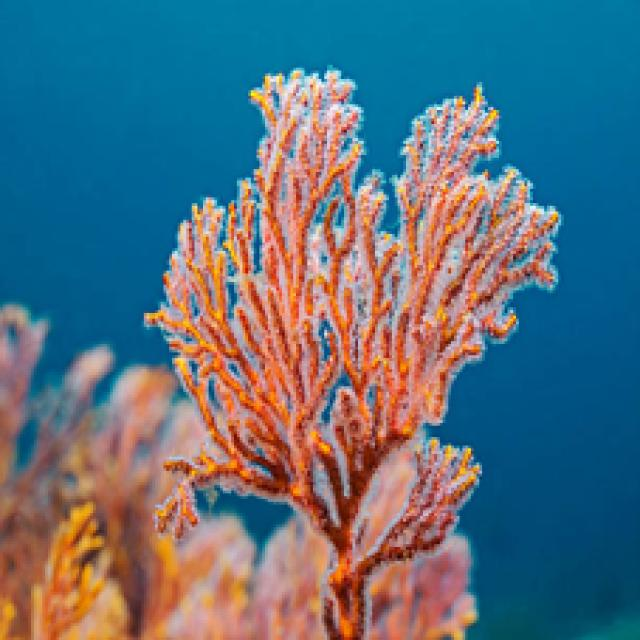Healthy: (145, 71, 559, 638)
